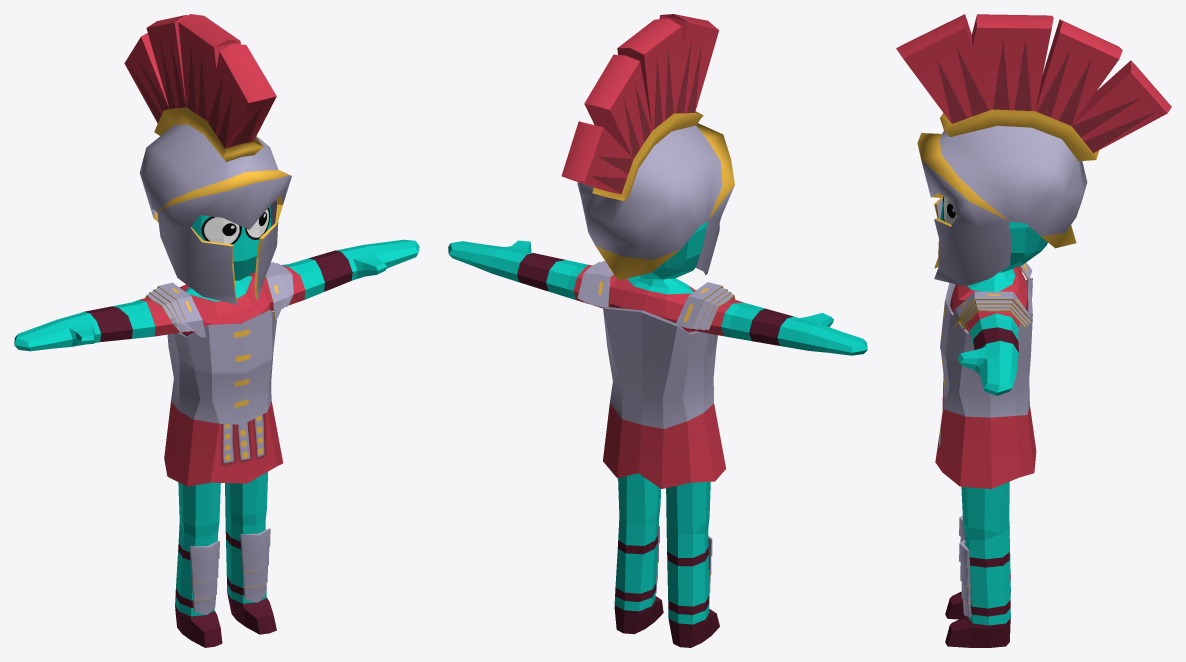
The model's file is linh roman.fbx.
3 views of the same model, side by side, from view 1: azimuth 30°, elevation 25°; view 2: azimuth 150°, elevation 25°; view 3: azimuth 270°, elevation 25° (orthographic). The views are drawn at different scales.
Visible parts, largest first — view 1: giap_Roman, linh; view 2: giap_Roman, linh; view 3: giap_Roman, linh.
Boxes of the visible parts, box(x1,y1,x2,y2) form: giap_Roman: box(124, 14, 293, 614); linh: box(14, 206, 419, 647); giap_Roman: box(561, 14, 735, 597); linh: box(448, 221, 867, 647); giap_Roman: box(896, 14, 1171, 617); linh: box(940, 196, 1047, 647).
Bounding box in the file's own units: 6.02 × 8.36 × 3.42.
Materials: 3 (2 with a texture image).
